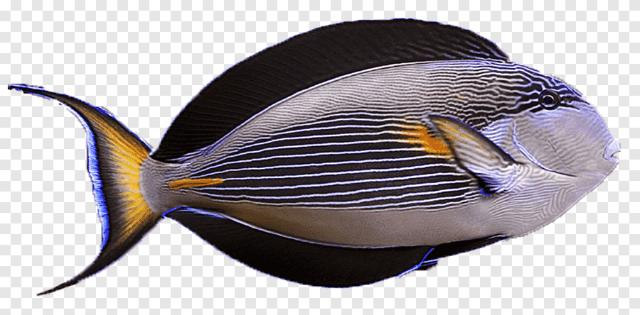Mulut: (586, 122, 634, 184)
Sirip Anal: (154, 199, 430, 297)
Sirip Dada: (411, 97, 533, 211)
Sirip Ekor: (0, 75, 184, 299)
Sirip Perut: (428, 223, 520, 278)
Sirip Punggung: (143, 14, 513, 168)
